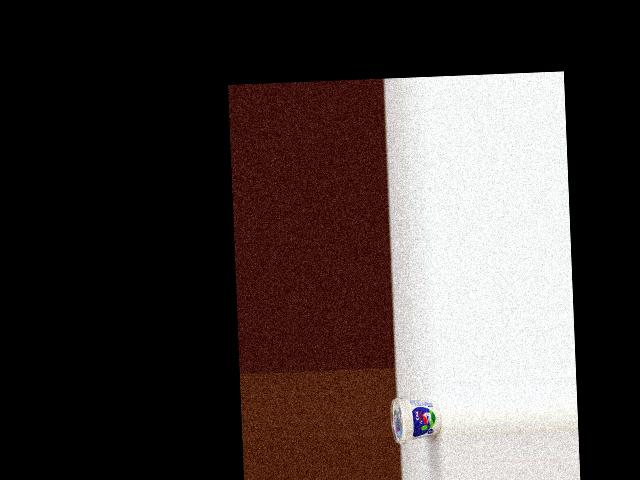cotage: (390, 394, 442, 444)
